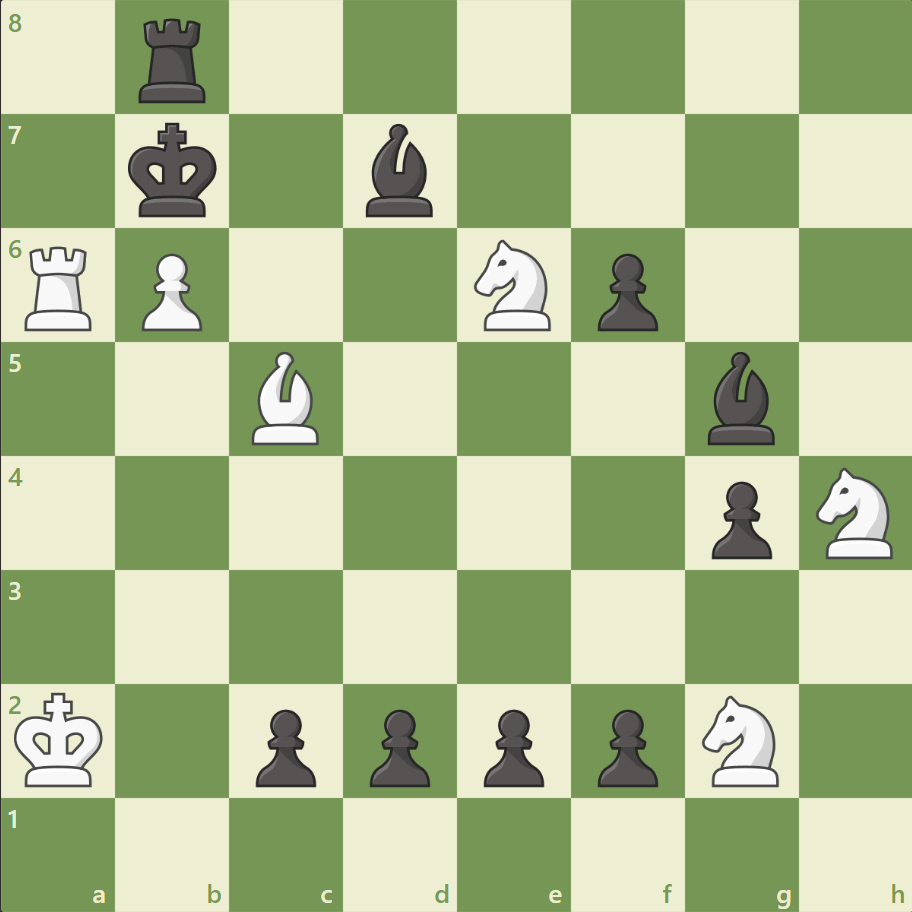B: (244, 347, 328, 449)
K: (11, 685, 111, 793)
N: (465, 234, 562, 337), (806, 461, 903, 564), (692, 688, 789, 791)
P: (133, 246, 208, 337)
R: (19, 239, 102, 336)
b: (358, 120, 442, 222), (698, 347, 782, 449)
k: (124, 117, 224, 225)
p: (701, 473, 776, 564), (247, 700, 322, 791), (474, 700, 549, 791), (588, 246, 662, 337), (361, 700, 435, 791), (588, 700, 662, 791)
r: (133, 12, 215, 109)
